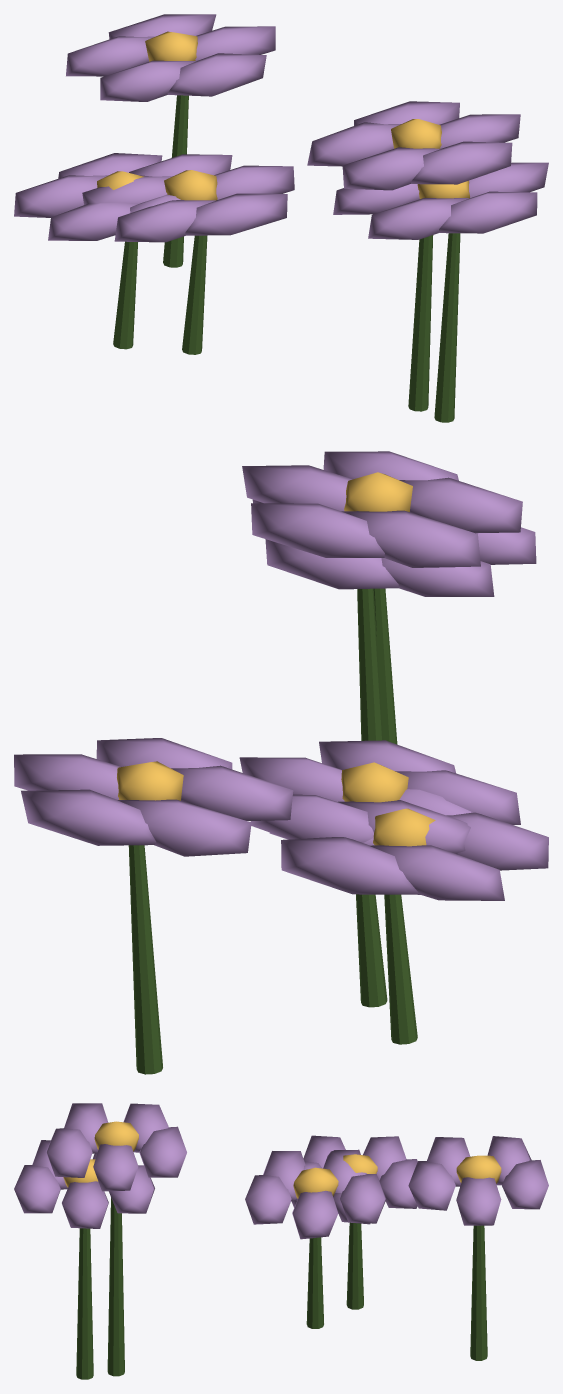
The model's file is valley_lavender.glb.
3 renders of one model, top to bottom at view 1: azimuth 30°, elevation 25°; view 2: azimuth 150°, elevation 25°; view 3: azimuth 270°, elevation 25°, orthographic. The views are drawn at different scales.
Visible parts, largest first — view 1: valley_lavender; view 2: valley_lavender; view 3: valley_lavender.
Part boxes in pixels (box(x1,y1,x2,y2)): valley_lavender: box(14, 14, 548, 422); valley_lavender: box(14, 451, 548, 1074); valley_lavender: box(14, 1103, 548, 1379).
Size of the model in its own units: 0.739 by 0.5634 by 1.09.
